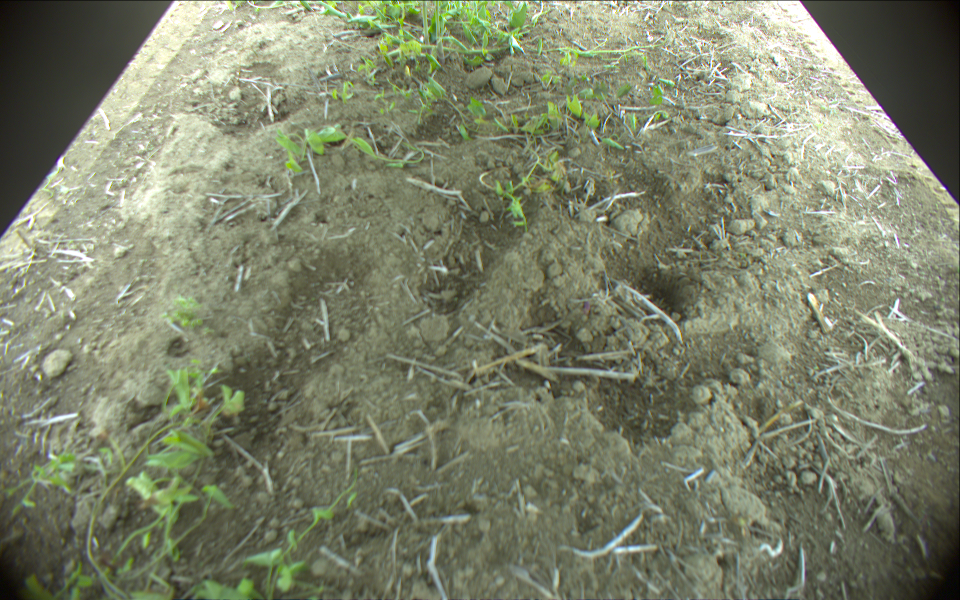aspa: (395, 41, 520, 53), (423, 1, 432, 42), (435, 1, 441, 43)
